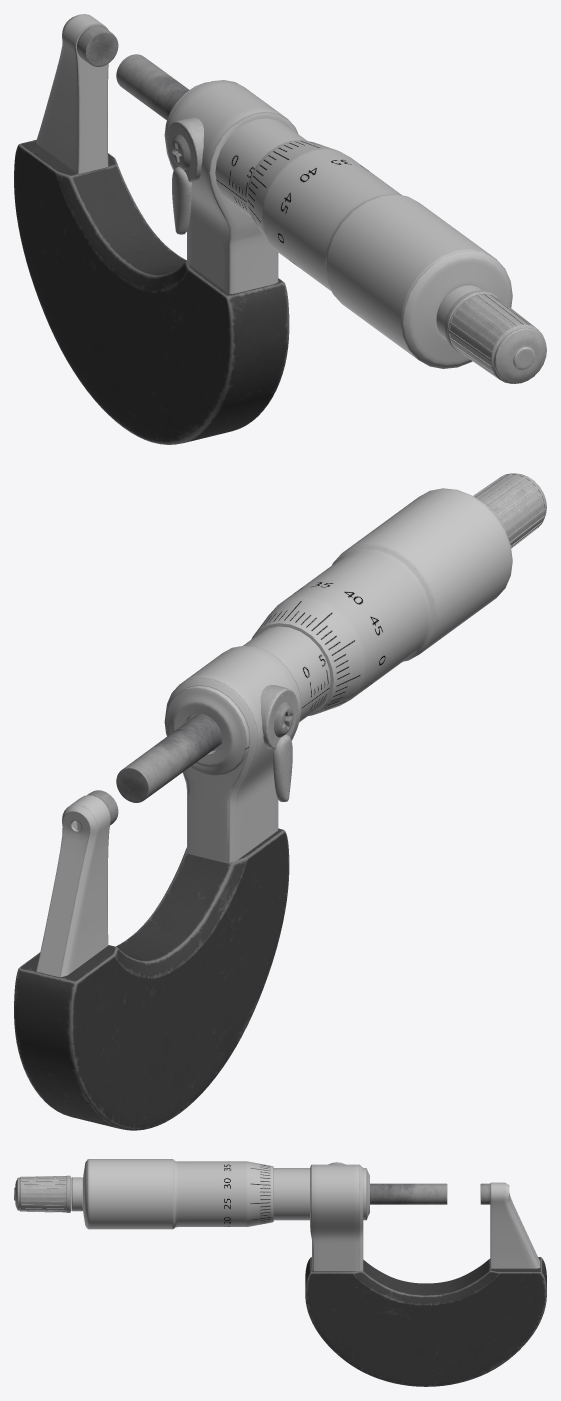
The model's file is DS_Ch4_micrometer.glb.
3 renders of one model, top to bottom at view 1: azimuth 30°, elevation 25°; view 2: azimuth 150°, elevation 25°; view 3: azimuth 270°, elevation 25°, orthographic. The views are drawn at different scales.
Parts seen in each view (by area): view 1: 9_Legacy_0_0, 2_Legacy_2_0, 3_Legacy_3_0, 3_Legacy_6_0, object 1, object 5, 4_Legacy_4_0_0; view 2: 9_Legacy_0_0, 2_Legacy_2_0, 3_Legacy_3_0, 3_Legacy_6_0, 4_Legacy_4_0_0, object 1, object 5; view 3: 9_Legacy_0_0, 2_Legacy_2_0, 3_Legacy_3_0, 3_Legacy_6_0, 4_Legacy_4_0_0, object 1, object 5.
Part boxes in pixels (bbox=[...]): 9_Legacy_0_0: bbox=[14, 139, 289, 444]; 2_Legacy_2_0: bbox=[36, 14, 482, 339]; 3_Legacy_3_0: bbox=[246, 140, 512, 368]; 3_Legacy_6_0: bbox=[327, 195, 495, 359]; object 1: bbox=[166, 117, 546, 383]; object 5: bbox=[77, 25, 190, 169]; 4_Legacy_4_0_0: bbox=[164, 82, 306, 216]; 9_Legacy_0_0: bbox=[14, 828, 289, 1130]; 2_Legacy_2_0: bbox=[36, 645, 301, 977]; 3_Legacy_3_0: bbox=[251, 508, 495, 715]; 3_Legacy_6_0: bbox=[344, 488, 512, 652]; 4_Legacy_4_0_0: bbox=[164, 626, 330, 775]; object 1: bbox=[260, 473, 546, 801]; object 5: bbox=[87, 701, 293, 825]; 9_Legacy_0_0: bbox=[305, 1257, 546, 1386]; 2_Legacy_2_0: bbox=[71, 1164, 540, 1271]; 3_Legacy_3_0: bbox=[83, 1159, 273, 1229]; 3_Legacy_6_0: bbox=[88, 1159, 171, 1229]; 4_Legacy_4_0_0: bbox=[273, 1168, 369, 1220]; object 1: bbox=[14, 1162, 345, 1212]; object 5: bbox=[370, 1183, 490, 1204].
Bounding box in the file's own units: 0.0485 × 0.1636 × 0.3634.
Materials: 7 (6 with a texture image).
